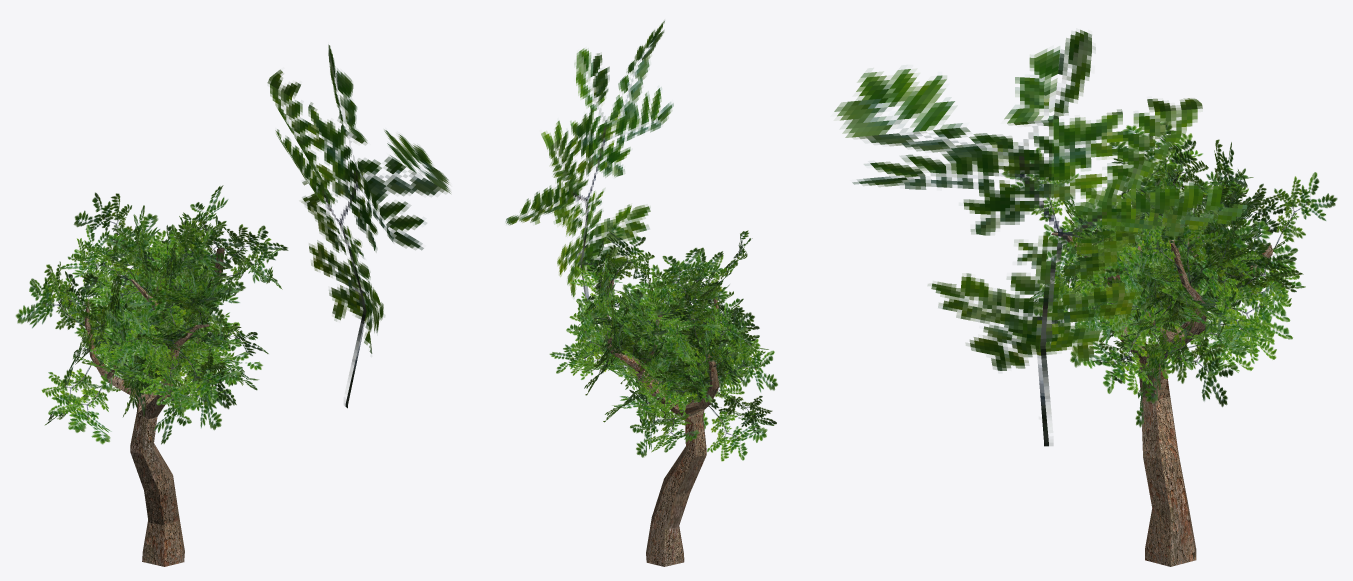
The model's file is Tree.glb.
3 views of the same model, side by side, from view 1: azimuth 30°, elevation 25°; view 2: azimuth 150°, elevation 25°; view 3: azimuth 270°, elevation 25° (orthographic). The views are drawn at different scales.
Parts seen in each view (by area): view 1: Brach 128, Cube, Brach 128.120, Brach 128.008, Brach 128.128, Brach 128.075, Brach 128.114, Brach 128.100, Brach 128.010, Brach 128.011, Brach 128.082, Brach 128.080 (+30 smaller); view 2: Brach 128, Cube, Brach 128.119, Brach 128.109, Brach 128.082, Brach 128.055, Brach 128.127, Brach 128.098, Brach 128.114, Brach 128.094, Brach 128.104, Brach 128.117 (+32 smaller); view 3: Brach 128, Cube, Brach 128.142, Brach 128.100, Brach 128.104, Brach 128.078, Brach 128.076, Brach 128.021, Brach 128.025, Brach 128.098, Brach 128.080, Brach 128.059 (+22 smaller).
Part boxes in pixels (x1,y1,x2,y2): Brach 128: [267, 44, 450, 408]; Cube: [84, 247, 224, 566]; Brach 128.120: [15, 272, 85, 329]; Brach 128.008: [174, 350, 241, 405]; Brach 128.128: [57, 384, 111, 444]; Brach 128.075: [162, 224, 231, 279]; Brach 128.114: [41, 361, 93, 432]; Brach 128.100: [73, 192, 132, 247]; Brach 128.010: [127, 274, 192, 341]; Brach 128.011: [104, 306, 176, 367]; Brach 128.082: [179, 185, 228, 248]; Brach 128.080: [223, 224, 288, 265]; Brach 128: [505, 20, 673, 300]; Cube: [602, 279, 719, 566]; Brach 128.119: [718, 337, 777, 392]; Brach 128.109: [707, 406, 767, 461]; Brach 128.082: [606, 224, 654, 286]; Brach 128.055: [650, 247, 703, 308]; Brach 128.127: [654, 293, 718, 341]; Brach 128.098: [566, 302, 608, 364]; Brach 128.114: [715, 391, 776, 433]; Brach 128.094: [590, 304, 651, 354]; Brach 128.104: [630, 400, 677, 457]; Brach 128.117: [647, 324, 709, 377]; Brach 128: [834, 30, 1247, 446]; Cube: [1051, 214, 1272, 566]; Brach 128.142: [1076, 326, 1152, 394]; Brach 128.100: [1272, 172, 1337, 252]; Brach 128.104: [1165, 329, 1237, 407]; Brach 128.078: [1189, 203, 1262, 283]; Brach 128.076: [1093, 228, 1167, 305]; Brach 128.021: [1142, 210, 1223, 286]; Brach 128.025: [1206, 270, 1290, 349]; Brach 128.098: [1236, 240, 1303, 292]; Brach 128.080: [1128, 212, 1182, 278]; Brach 128.059: [1204, 291, 1292, 363].
Size of the model in its own units: 14.94 by 26.65 by 20.57.
2 materials, 2 textured.
